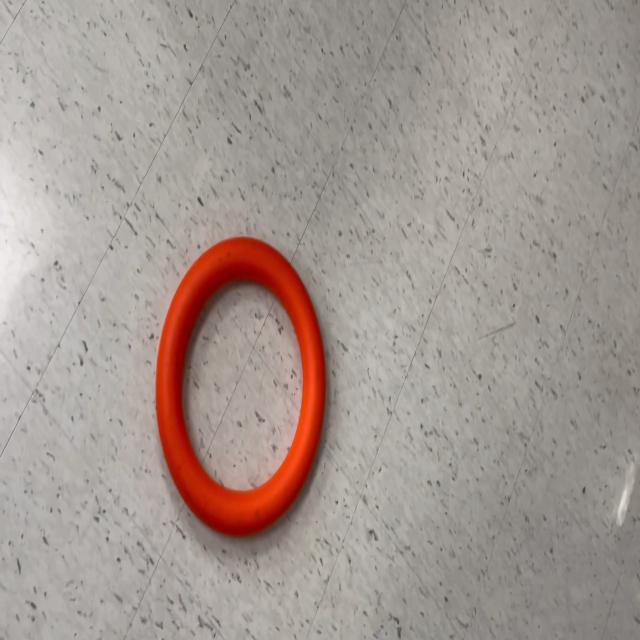note: (154, 235, 328, 542)
